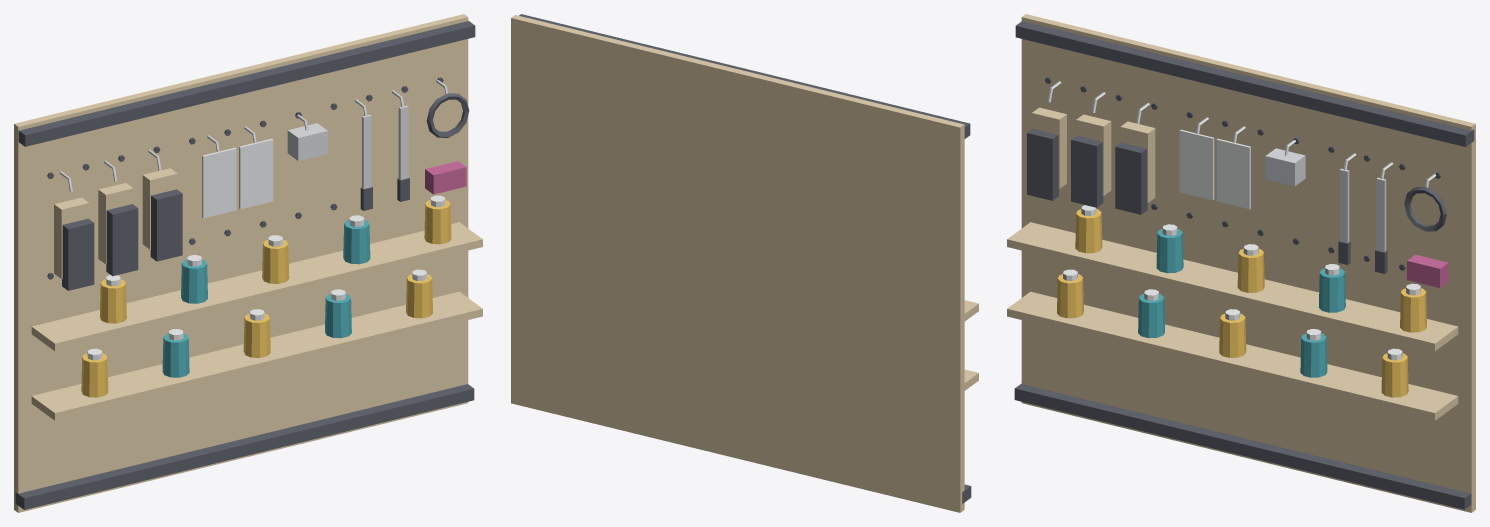
The model's file is snowboard-gear-and-freestyle-riders-tool-wall-14593151__27187.glb.
3 views of the same model, side by side, from view 1: azimuth 30°, elevation 25°; view 2: azimuth 150°, elevation 25°; view 3: azimuth 330°, elevation 25° (orthographic).
Visible parts, largest first — view 1: tool-wall; view 2: tool-wall; view 3: tool-wall.
Part boxes in pixels (left/top/right/bottom): tool-wall: left=14, top=14, right=482, bottom=512; tool-wall: left=511, top=14, right=978, bottom=512; tool-wall: left=1007, top=14, right=1475, bottom=512.
Bounding box in the file's own units: 1.22 × 1 × 0.14.
